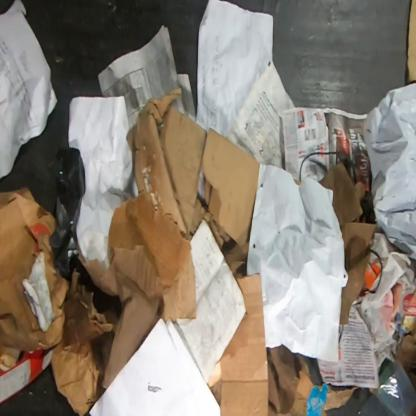cardboard: (85, 246, 198, 390), (0, 187, 69, 372), (318, 161, 378, 325), (127, 88, 188, 238), (200, 127, 260, 279), (220, 273, 269, 415), (159, 104, 207, 238), (267, 345, 358, 415), (0, 348, 55, 406), (394, 291, 415, 368), (407, 0, 415, 83)
rigid_plastic: (49, 148, 87, 281)
soft_plastic: (372, 359, 416, 416)
